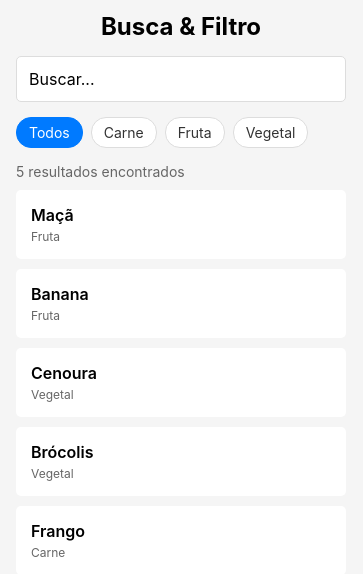
it: Componente SearchFilter › combina consulta de busca e filtro de categoria
Type "o" into the field with test id "search-input". click: point(181, 79)
box: [16,56,346,102]
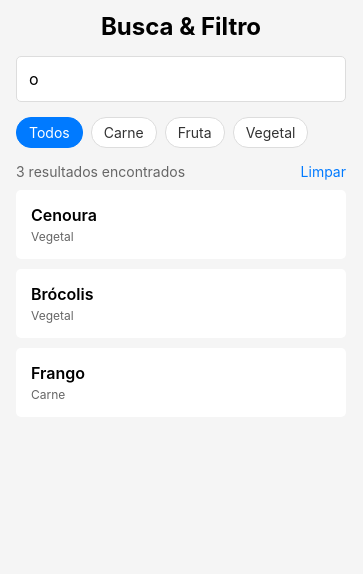
Click the element with test id "category-Vegetal". click: point(270, 132)
box: [233,117,308,148]
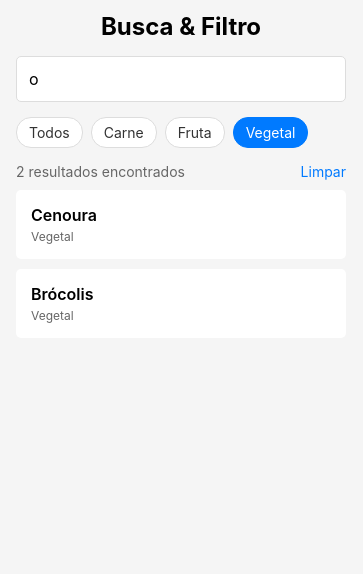
Expected: the element with test id "item-3" is shown, [16,190,346,259]
Expected: the element with test id "item-5" is gone
Expected: the text with test id "results-count" reads "2 resultados encontrados", [16,163,185,180]
